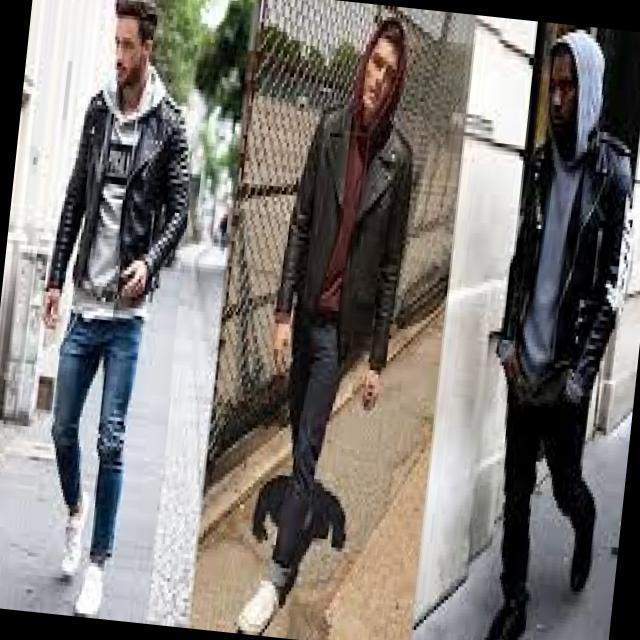Jacket: (28, 55, 204, 328), (268, 100, 422, 368), (494, 131, 640, 390)
